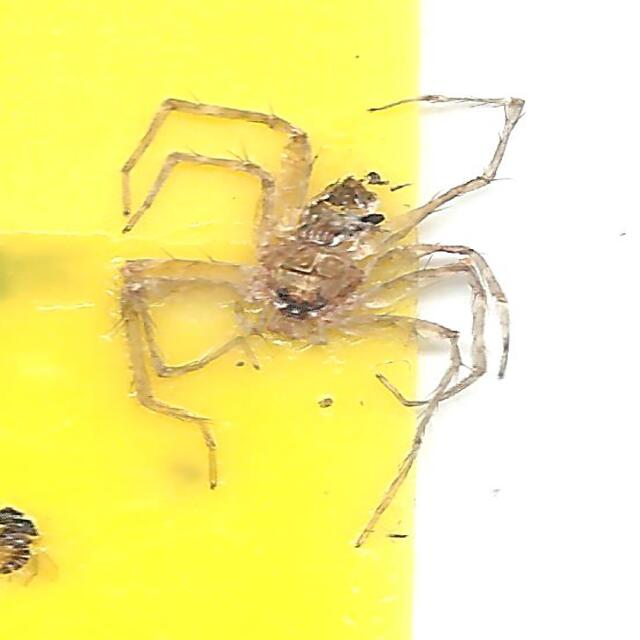Araneae: (115, 90, 525, 550)
